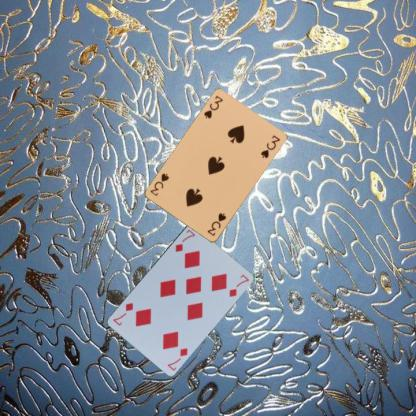3s: (204, 210, 228, 238), (201, 93, 224, 120)
7d: (165, 345, 189, 372), (173, 227, 196, 253)
